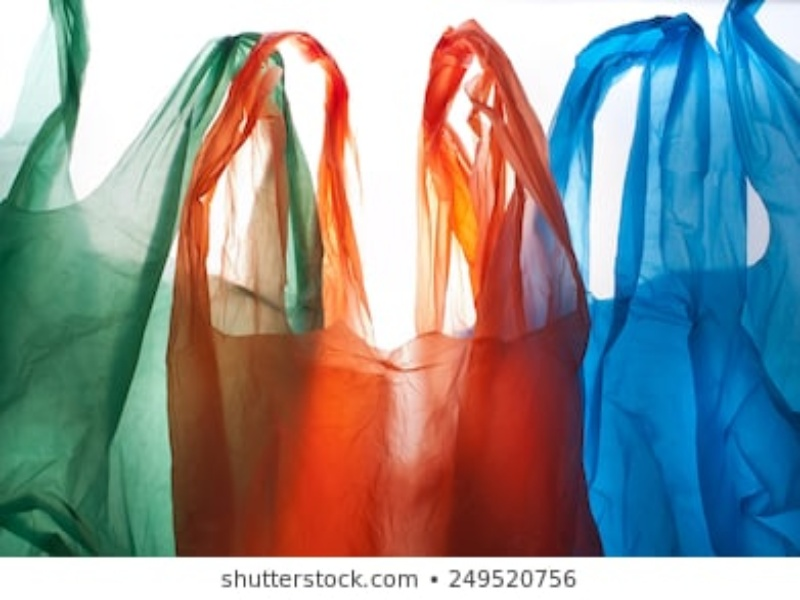plastic-bag: (173, 20, 612, 556), (7, 1, 328, 565), (545, 5, 794, 561)
